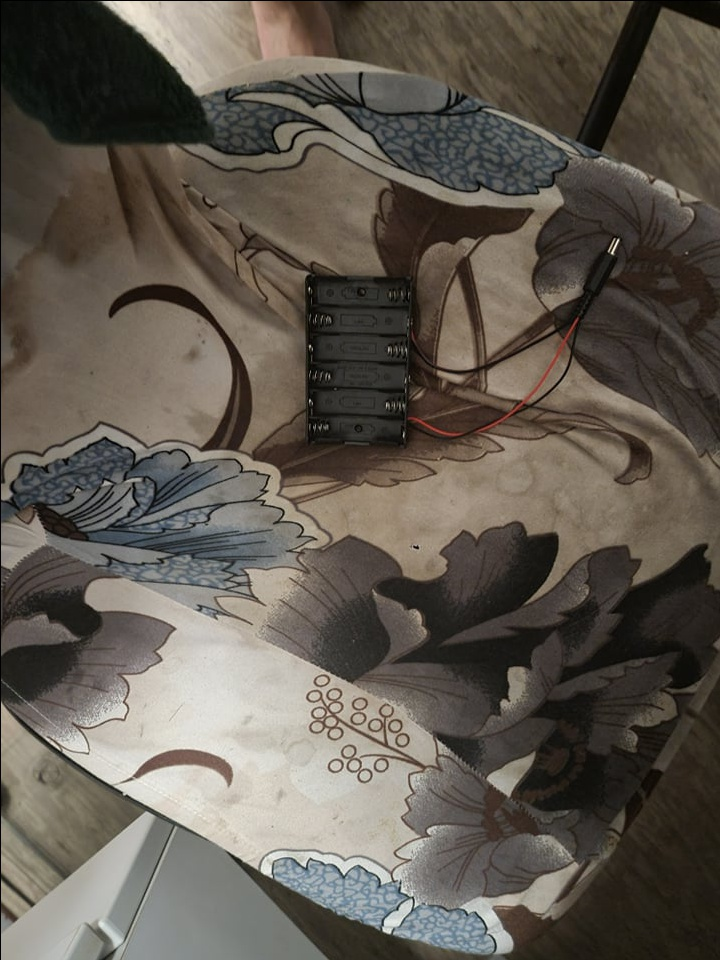BATTERY BOX: (304, 268, 414, 453)
